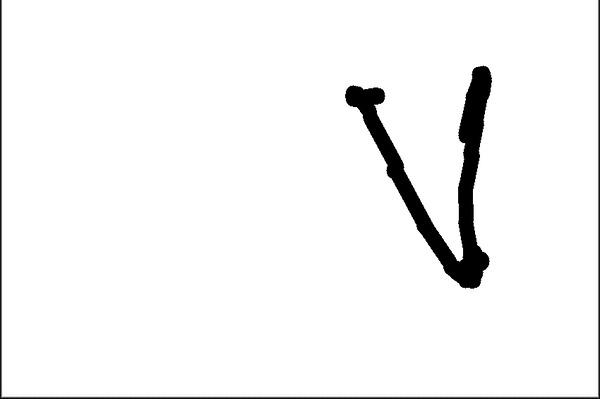V: (333, 64, 506, 290)
